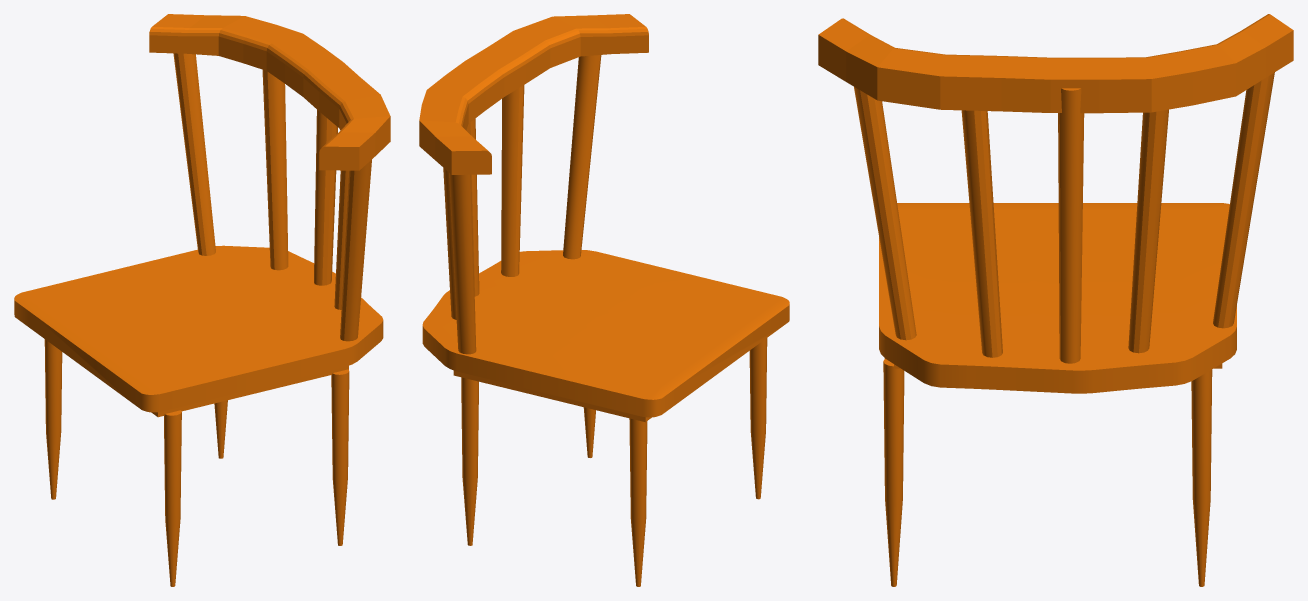
File: sandalye_yeni.fbx
The picture shows the model from 3 angles, left to right: view 1: azimuth 30°, elevation 25°; view 2: azimuth 150°, elevation 25°; view 3: azimuth 270°, elevation 25°; orthographic projection. The views are drawn at different scales.
Parts seen in each view (by area): view 1: Cylinder.001; view 2: Cylinder.001; view 3: Cylinder.001.
Part boxes in pixels (x1,y1,x2,y2): Cylinder.001: [14, 14, 390, 586]; Cylinder.001: [419, 14, 789, 586]; Cylinder.001: [818, 14, 1293, 586].
Bounding box in the file's own units: 116 × 176 × 139.
1 material, 1 textured.
